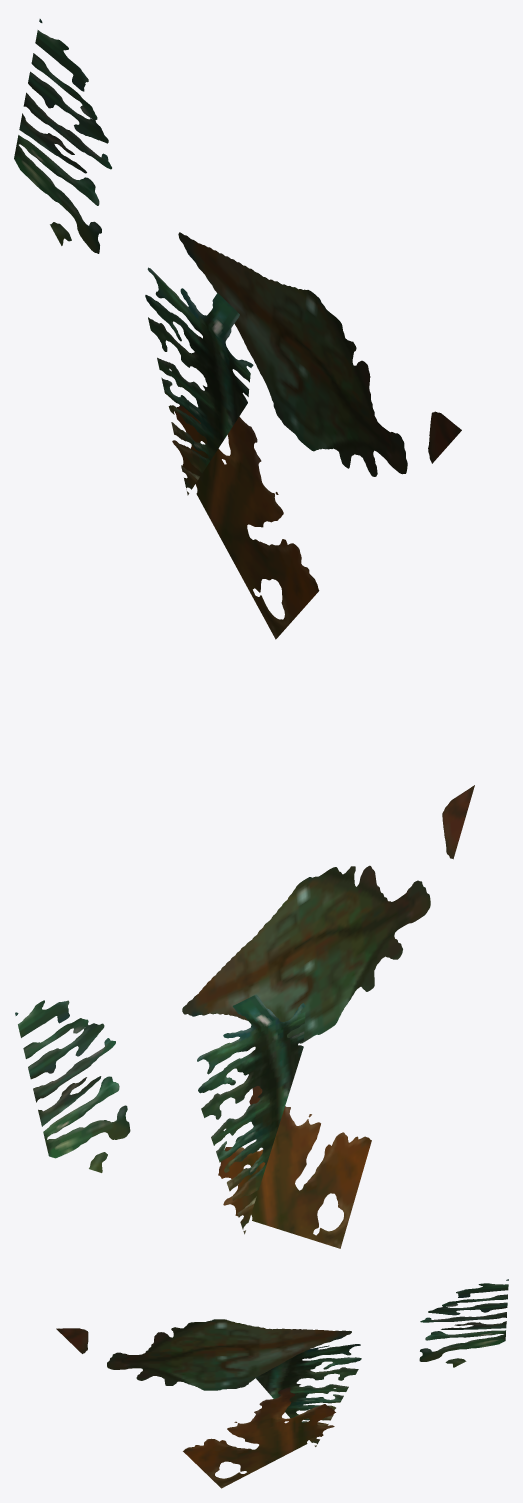
The model's file is stemple_vinehall_straight_04.fbx.
3 views of the same model, one above another, from view 1: azimuth 30°, elevation 25°; view 2: azimuth 150°, elevation 25°; view 3: azimuth 270°, elevation 25° (orthographic). The views are drawn at different scales.
Parts seen in each view (by area): view 1: sunken_tileset/sunken_plants01_mat; view 2: sunken_tileset/sunken_plants01_mat; view 3: sunken_tileset/sunken_plants01_mat.
Part boxes in pixels (x1=…): sunken_tileset/sunken_plants01_mat: x1=14, y1=19, x2=461, y2=639; sunken_tileset/sunken_plants01_mat: x1=15, y1=785, x2=474, y2=1248; sunken_tileset/sunken_plants01_mat: x1=56, y1=1279, x2=508, y2=1488.
Bounding box in the file's own units: 0.5752 × 6.22 × 12.65.
